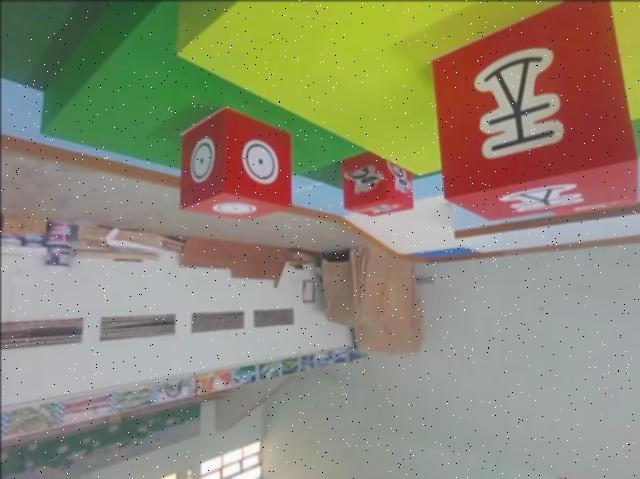R1: (339, 150, 417, 219)
R2 Real: (428, 0, 636, 225), (176, 106, 295, 222)
